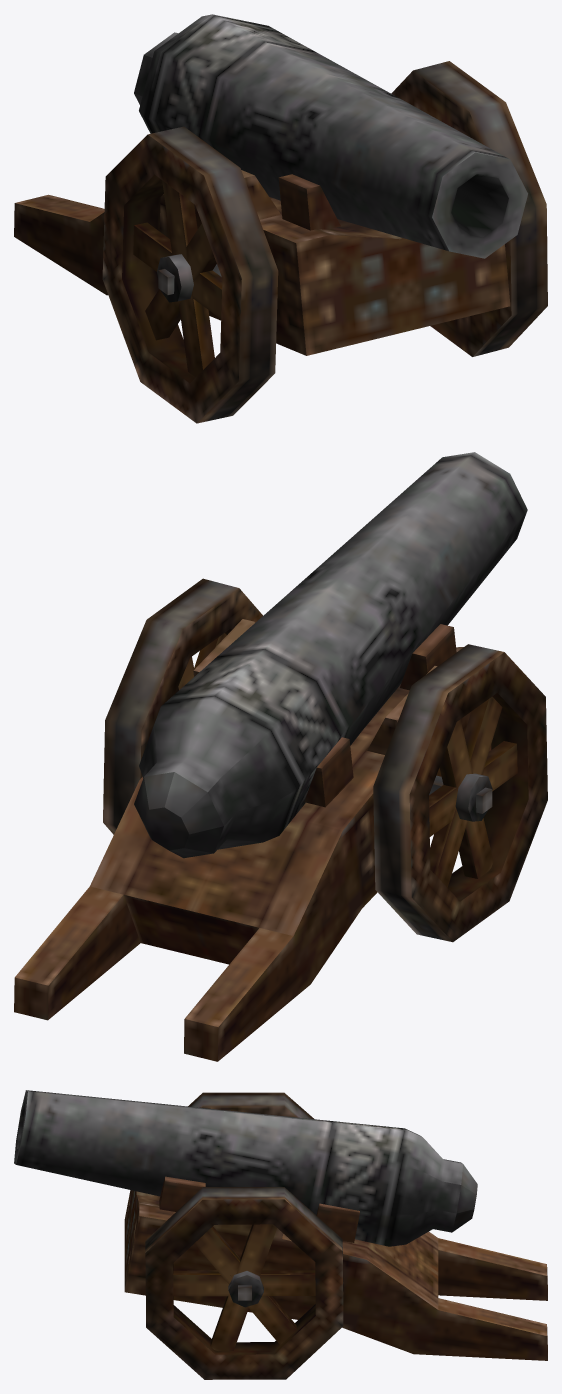
The model's file is b_general_obj_05.glb.
3 renders of one model, top to bottom at view 1: azimuth 30°, elevation 25°; view 2: azimuth 150°, elevation 25°; view 3: azimuth 270°, elevation 25°, orthographic. The views are drawn at different scales.
Visible parts, largest first — view 1: B_general_obj_03; view 2: B_general_obj_03; view 3: B_general_obj_03.
Part boxes in pixels (<box>): B_general_obj_03: <box>14,14,547,423</box>; B_general_obj_03: <box>14,452,547,1061</box>; B_general_obj_03: <box>14,1090,547,1379</box>.
Size of the model in its own units: 1.56 by 1.48 by 3.07.
1 material, 1 textured.
